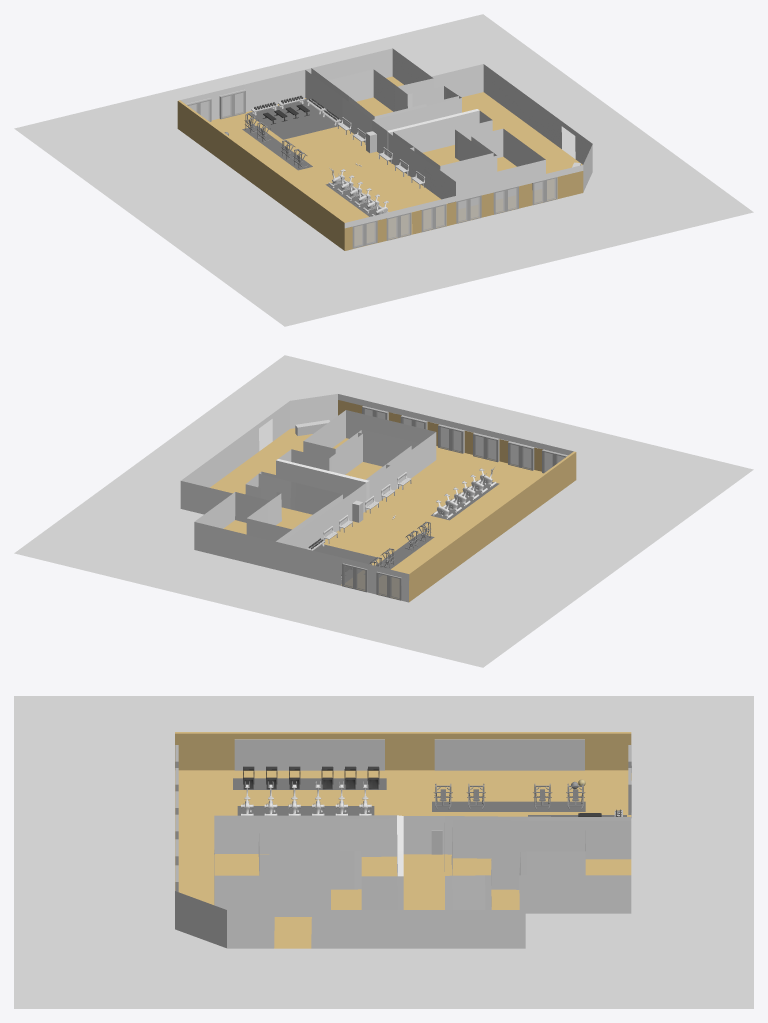
File: traning1.fbx
The picture shows the model from 3 angles, top to bottom: view 1: azimuth 30°, elevation 25°; view 2: azimuth 150°, elevation 25°; view 3: azimuth 270°, elevation 25°; orthographic projection. The views are drawn at different scales.
Visible parts, largest first — view 1: 平面.002, room, 平面.001, 円柱.006, 平面.003, 立方体.018, 立方体.012, 立方体.013, 立方体.014, 立方体.003, 立方体.016, 立方体.015; view 2: 平面.002, room, 円柱.006, 立方体.014, 立方体.012, 立方体.013, 平面.001, 立方体.017, 立方体.018, 平面.003; view 3: 平面.002, room, 立方体.010, 立方体, 平面.003, 円柱.006, 平面.004, 平面, 立方体.011, 立方体.001, 立方体.006, 立方体.005.
Part boxes in pixels (box(x1,y1,x2,y2)): 平面.002: box(14, 14, 753, 326); room: box(177, 48, 592, 250); 平面.001: box(247, 98, 338, 139); 円柱.006: box(328, 167, 388, 216); 平面.003: box(242, 125, 312, 170); 立方体.018: box(219, 90, 245, 119); 立方体.012: box(386, 212, 411, 240); 立方体.013: box(421, 204, 446, 232); 立方体.014: box(456, 195, 481, 223); 立方体.003: box(352, 220, 377, 248); 立方体.016: box(532, 177, 557, 205); 立方体.015: box(493, 186, 518, 214); 平面.002: box(14, 355, 753, 667); room: box(180, 394, 576, 602); 円柱.006: box(433, 467, 496, 518); 立方体.014: box(438, 424, 464, 453); 立方体.012: box(508, 441, 534, 470); 立方体.013: box(473, 433, 498, 462); 平面.001: box(313, 544, 376, 583); 立方体.017: box(376, 571, 401, 600); 立方体.018: box(342, 563, 367, 592); 平面.003: box(375, 533, 434, 576); 平面.002: box(14, 696, 753, 1008); room: box(175, 732, 631, 948); 立方体.010: box(434, 739, 584, 770); 立方体: box(234, 739, 384, 770); 平面.003: box(432, 801, 585, 811); 円柱.006: box(241, 781, 371, 815); 平面.004: box(233, 778, 386, 789); 平面: box(237, 806, 374, 815); 立方体.011: box(321, 766, 379, 789); 立方体.001: box(243, 766, 300, 789); 立方体.006: box(533, 783, 585, 809); 立方体.005: box(433, 783, 485, 809).
Bounding box in the file's own units: 13230 × 859 × 13230.
